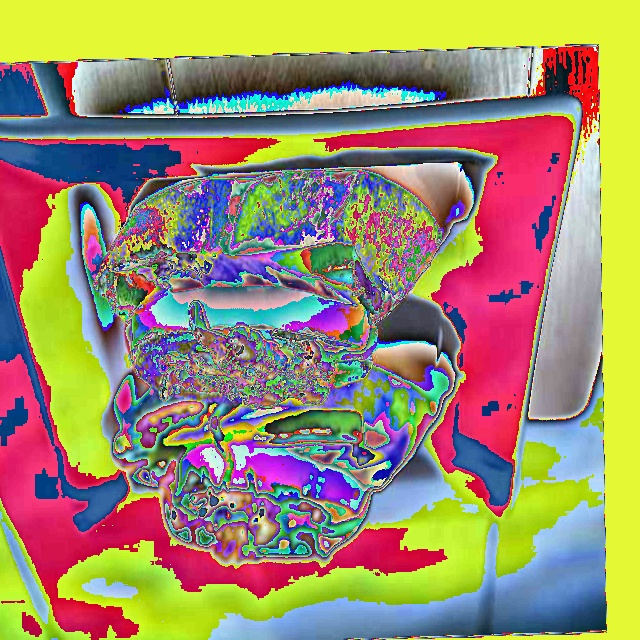background: (92, 172, 443, 569)
